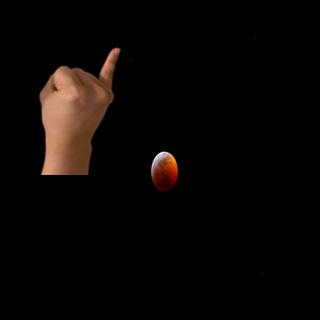FINE: (34, 45, 123, 148)
